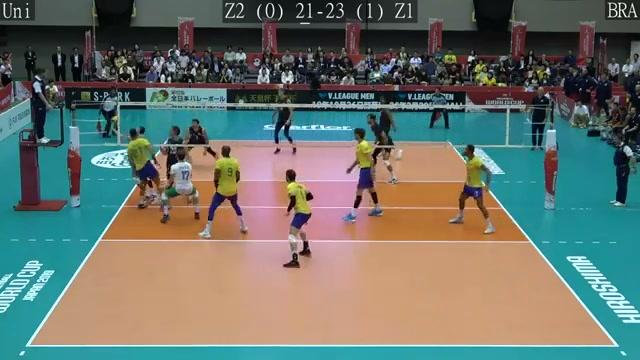ball: (109, 114, 123, 125)
